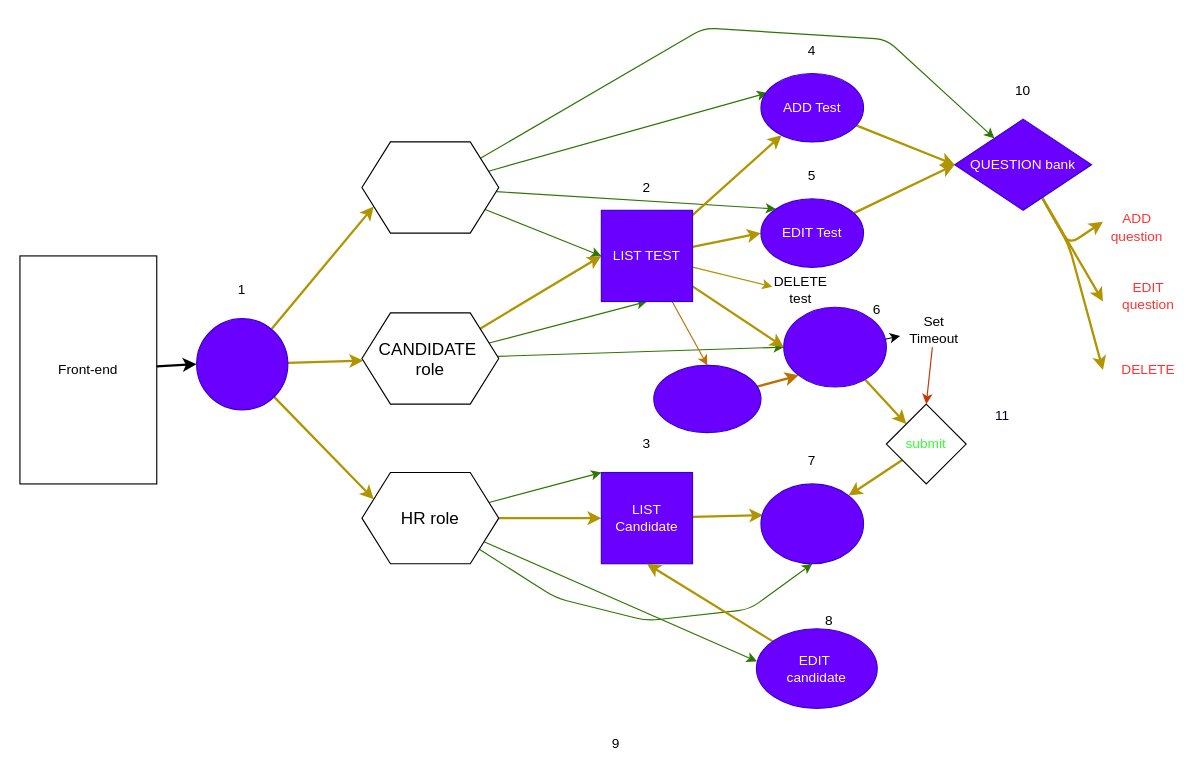
This 1203x775 diagram has some shape labels left out. Each missing label, with the box of its shape:
ADMIN role: (361, 141, 499, 233)
Login: (196, 317, 288, 410)
OverView (infomation candidate): (653, 364, 761, 433)
Take a Test: (783, 306, 886, 387)
Test With Candidate: (760, 483, 864, 564)
